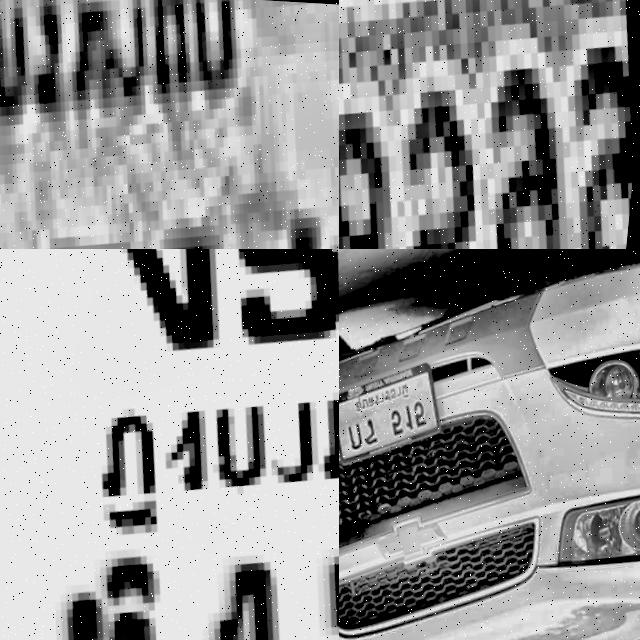license-plate: (0, 249, 339, 640), (0, 0, 339, 249), (339, 0, 640, 249), (339, 350, 456, 474)
